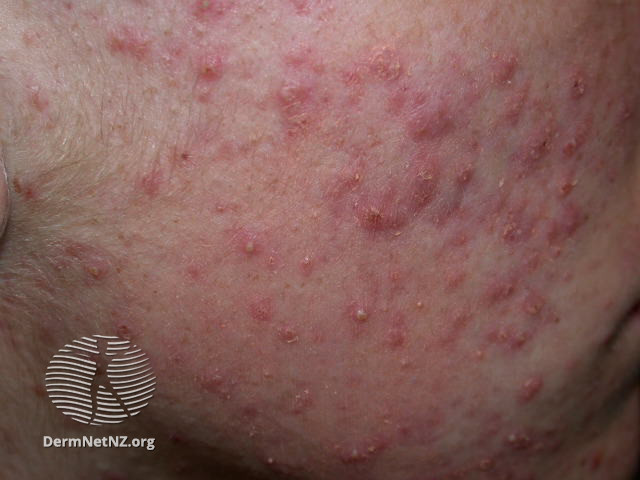jerawat: (403, 87, 459, 141), (486, 196, 537, 251), (357, 40, 410, 85), (402, 147, 447, 197), (353, 196, 405, 236), (477, 265, 522, 310), (106, 19, 151, 63), (272, 72, 319, 114), (488, 320, 538, 355), (483, 47, 520, 88), (436, 302, 470, 345), (559, 122, 592, 163), (192, 48, 227, 85), (493, 89, 526, 127), (556, 203, 591, 236), (341, 150, 371, 188), (78, 251, 112, 283), (547, 170, 582, 201), (285, 385, 315, 420), (282, 41, 315, 72), (136, 163, 166, 196), (517, 370, 545, 405), (565, 67, 589, 105), (343, 301, 375, 329), (450, 156, 477, 188), (10, 176, 42, 203), (379, 319, 406, 350), (246, 296, 274, 324), (29, 86, 55, 114), (294, 249, 320, 277), (504, 425, 530, 452), (523, 288, 545, 318), (273, 322, 299, 347), (193, 1, 226, 20), (202, 370, 229, 393), (237, 234, 261, 258), (185, 259, 206, 283), (175, 146, 196, 169), (194, 81, 213, 105), (541, 221, 559, 243), (364, 436, 380, 459), (157, 51, 177, 69), (346, 444, 361, 465), (471, 345, 489, 361), (212, 200, 227, 216), (309, 207, 323, 223), (398, 356, 414, 369), (412, 297, 425, 312), (264, 455, 279, 467), (260, 368, 272, 383)
